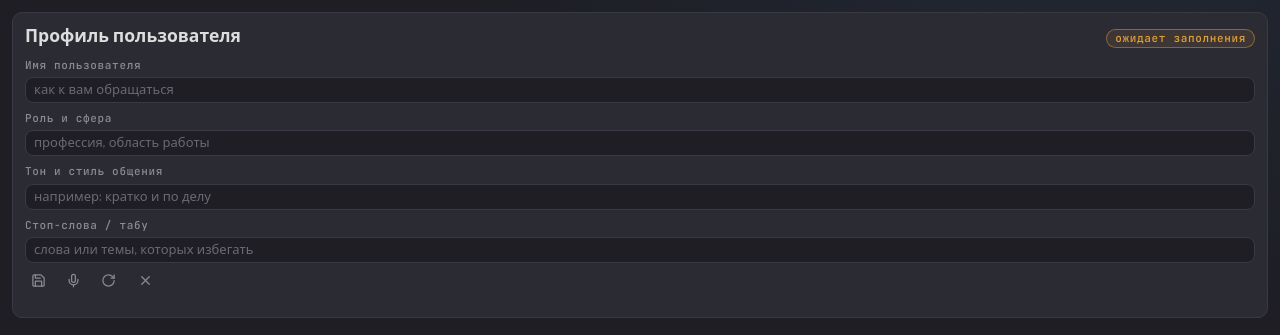
Test case: ProfileTab — вкладка «Профили» › «Отказаться» → POST /api/profile/action {action: decline}, чип — «отказан»
The image size is (1280, 335).
Expected: the heading "Профиль пользователя" is shown, [25,25,241,50]
Click the button titled "Отказаться": [146, 282] box [130,271,161,293]
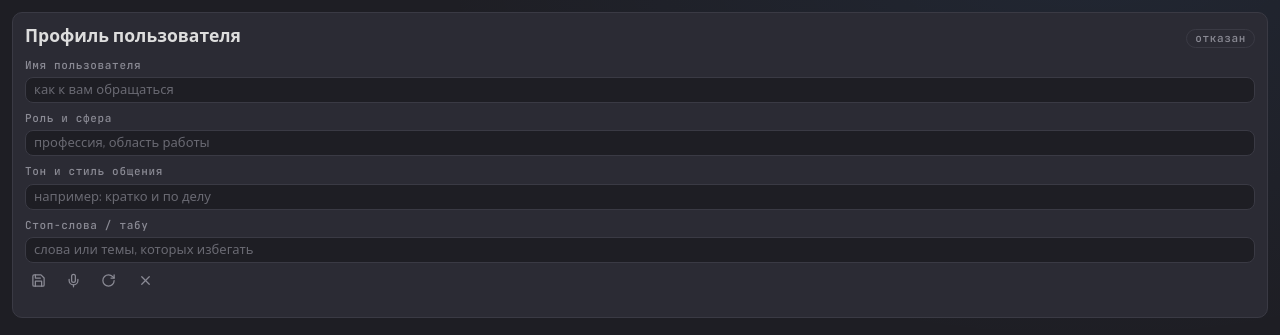
Expected: the text "отказан" is shown, [1186,29,1255,48]
